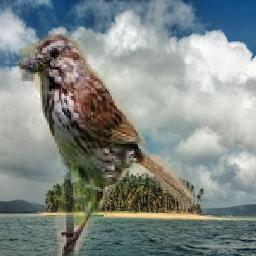Sparrow: (19, 34, 193, 256)
